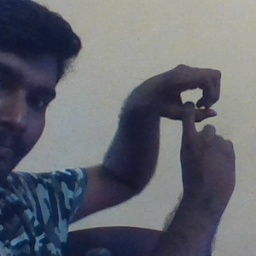Q: (123, 61, 243, 174)
